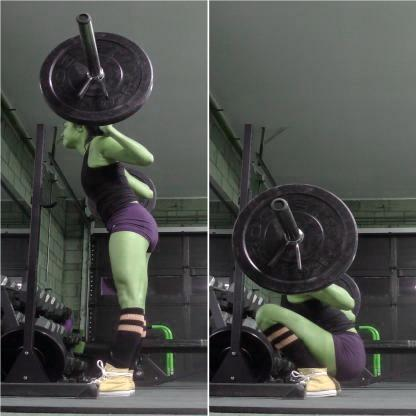Barbell: (269, 196, 293, 217), (75, 11, 96, 28)
